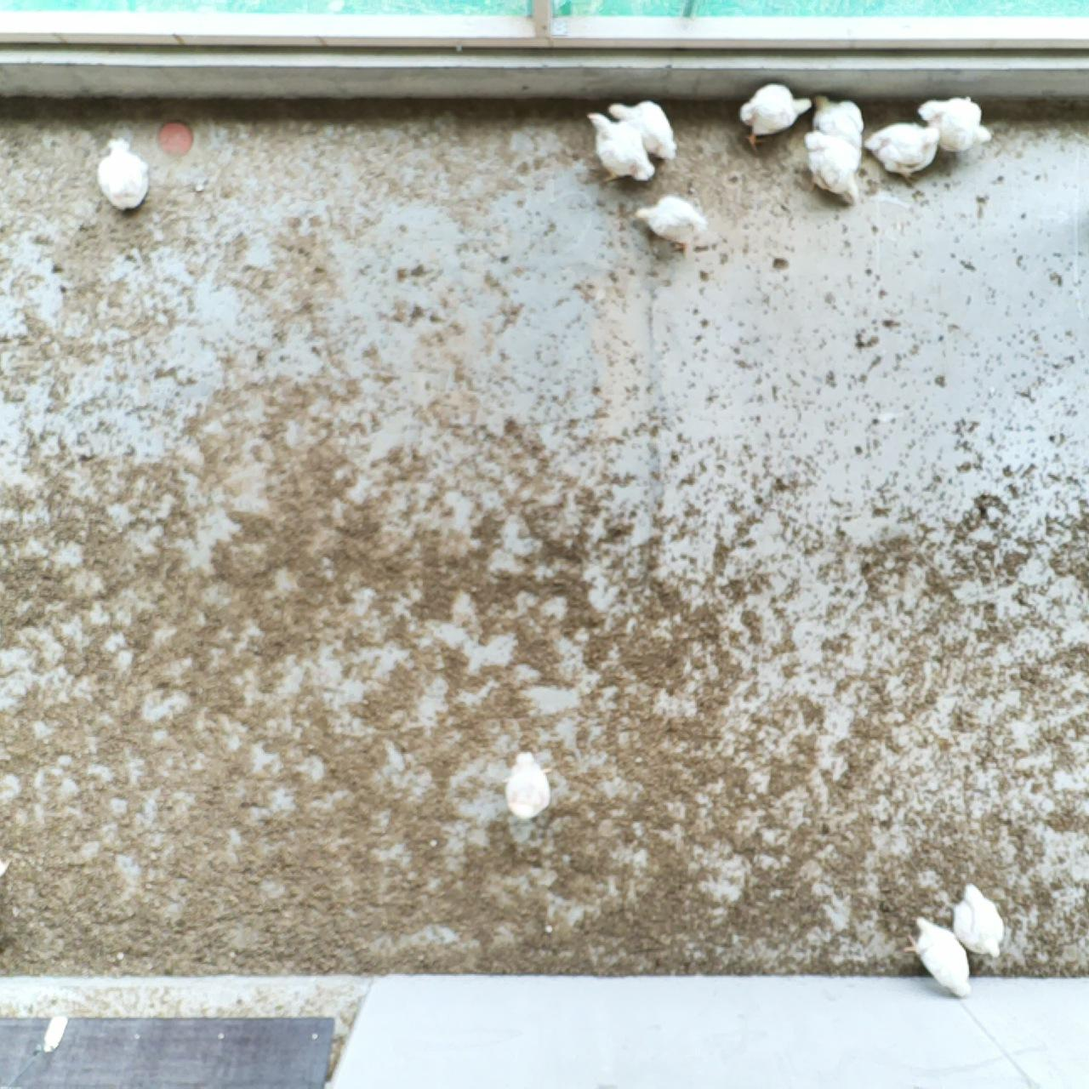chicken: (899, 911, 974, 1003), (730, 80, 813, 156), (630, 192, 721, 260), (861, 119, 944, 189), (583, 110, 659, 186), (91, 130, 155, 217), (915, 88, 992, 159), (602, 96, 681, 165), (800, 129, 865, 212), (495, 747, 561, 827), (951, 878, 1008, 962), (810, 90, 867, 153)
